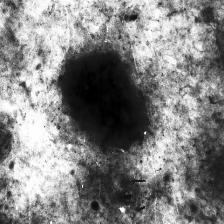Benign Marking or Mole: (67, 59, 144, 144)
